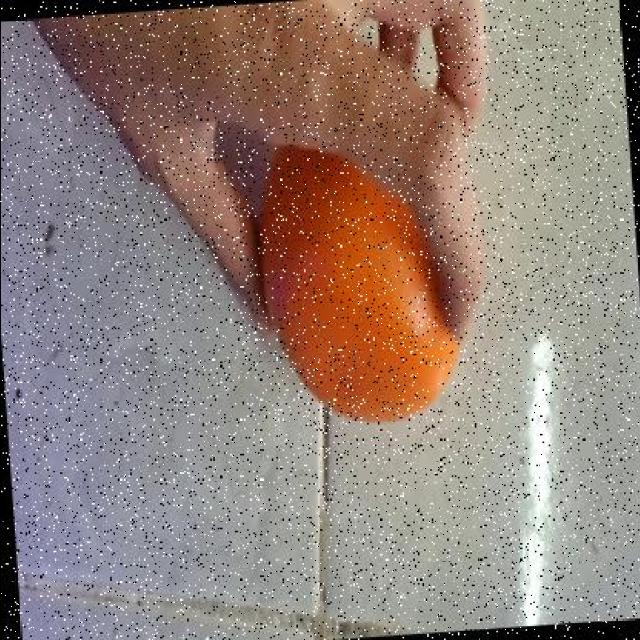Orange: (257, 143, 463, 423)
